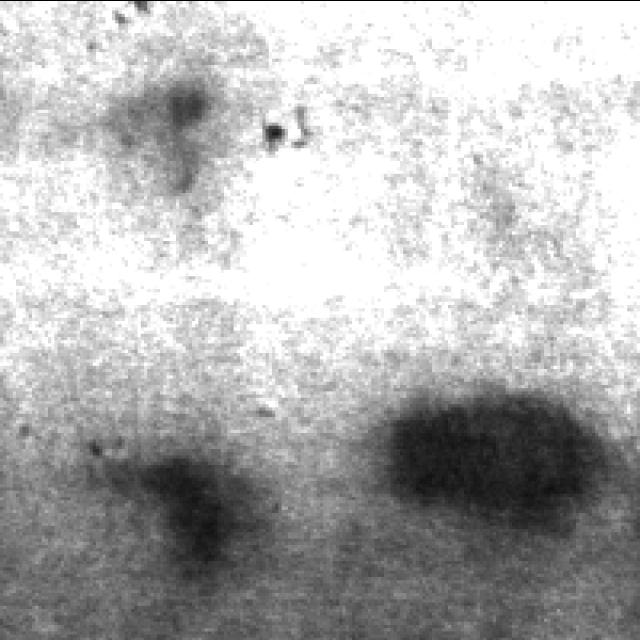patches: (377, 396, 619, 534), (98, 445, 254, 587), (119, 56, 269, 200)
